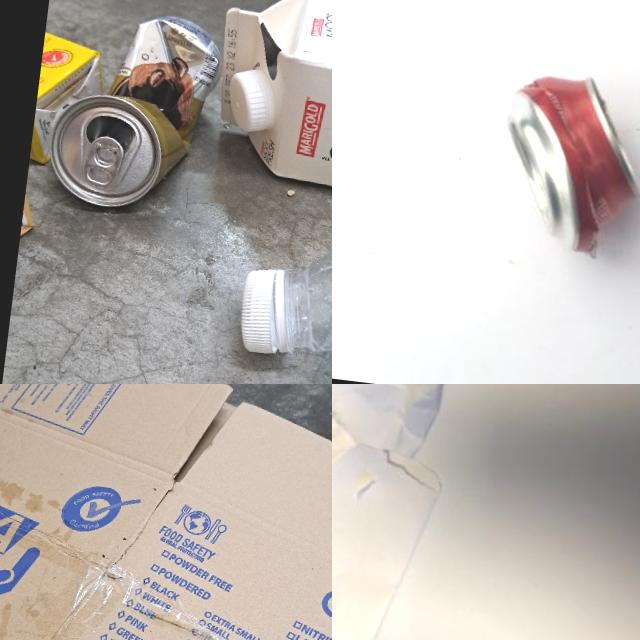aba de lata: (82, 134, 125, 190)
caixinha: (205, 0, 332, 218), (28, 26, 107, 172), (16, 160, 40, 260)
lata: (43, 2, 227, 220), (488, 63, 640, 257)
papel: (332, 384, 513, 640)
papelão: (0, 384, 332, 640)
tampa plástica: (277, 215, 332, 384), (236, 266, 286, 354), (222, 69, 272, 135)
